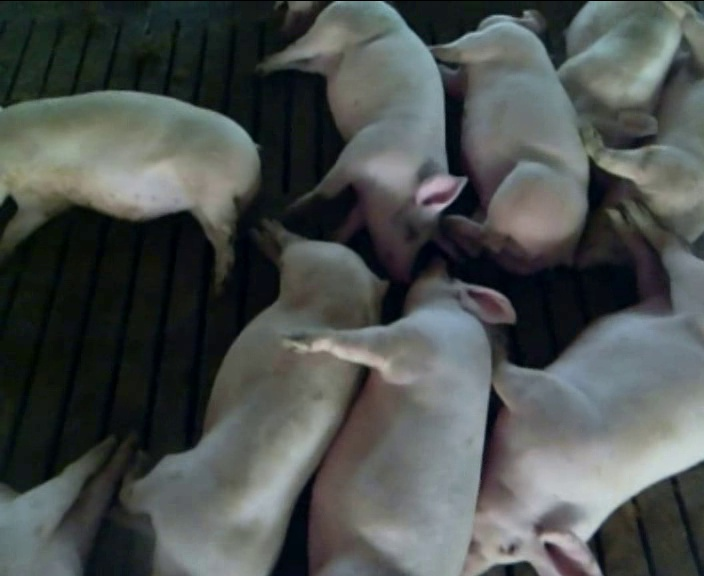pig: (108, 218, 384, 574), (464, 198, 703, 573), (290, 261, 514, 573), (257, 3, 465, 279), (432, 9, 587, 272), (577, 3, 703, 268), (558, 2, 681, 146)
